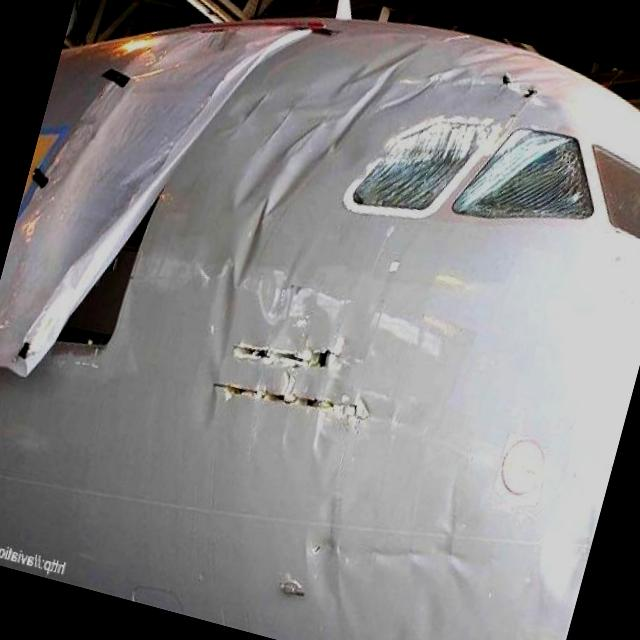crack: (204, 314, 383, 438)
dent: (165, 0, 583, 505)
